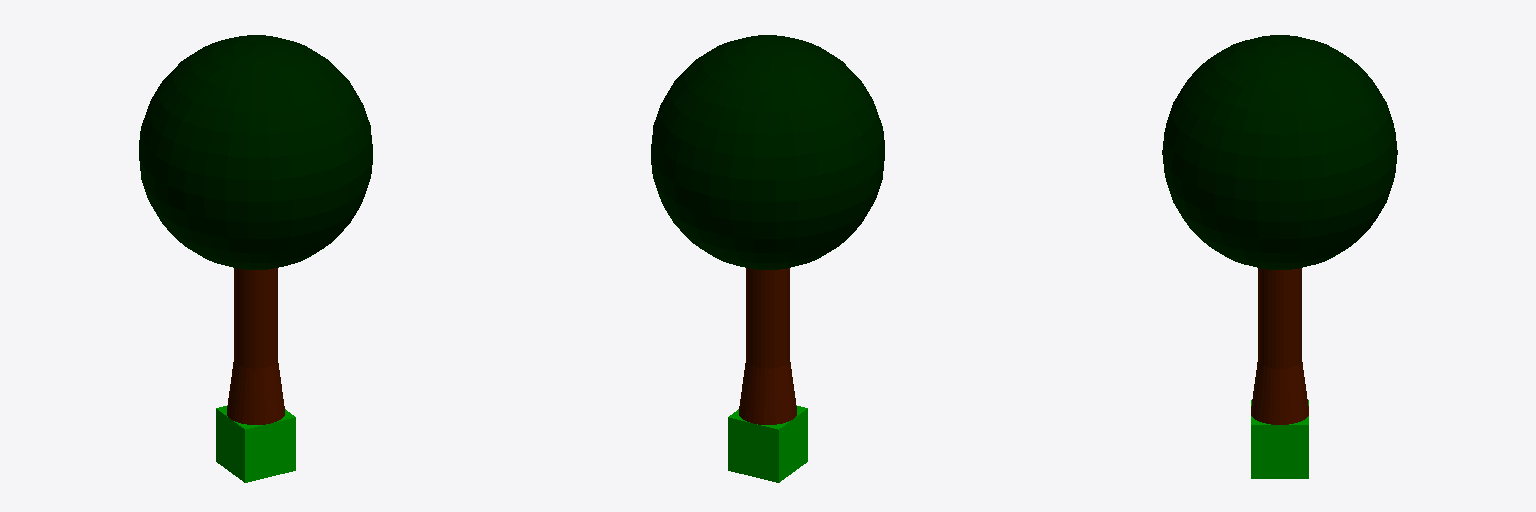
The model's file is 75Trees5.obj.
The picture shows the model from 3 angles: view 1: azimuth 30°, elevation 25°; view 2: azimuth 150°, elevation 25°; view 3: azimuth 270°, elevation 25°; orthographic projection.
Parts seen in each view (by area): view 1: Cube; view 2: Cube; view 3: Cube.
Part boxes in pixels (left/top/right/bottom): Cube: left=139, top=35, right=372, bottom=482; Cube: left=651, top=35, right=884, bottom=482; Cube: left=1162, top=35, right=1397, bottom=478.
Bounding box in the file's own units: 8 × 15.75 × 8.